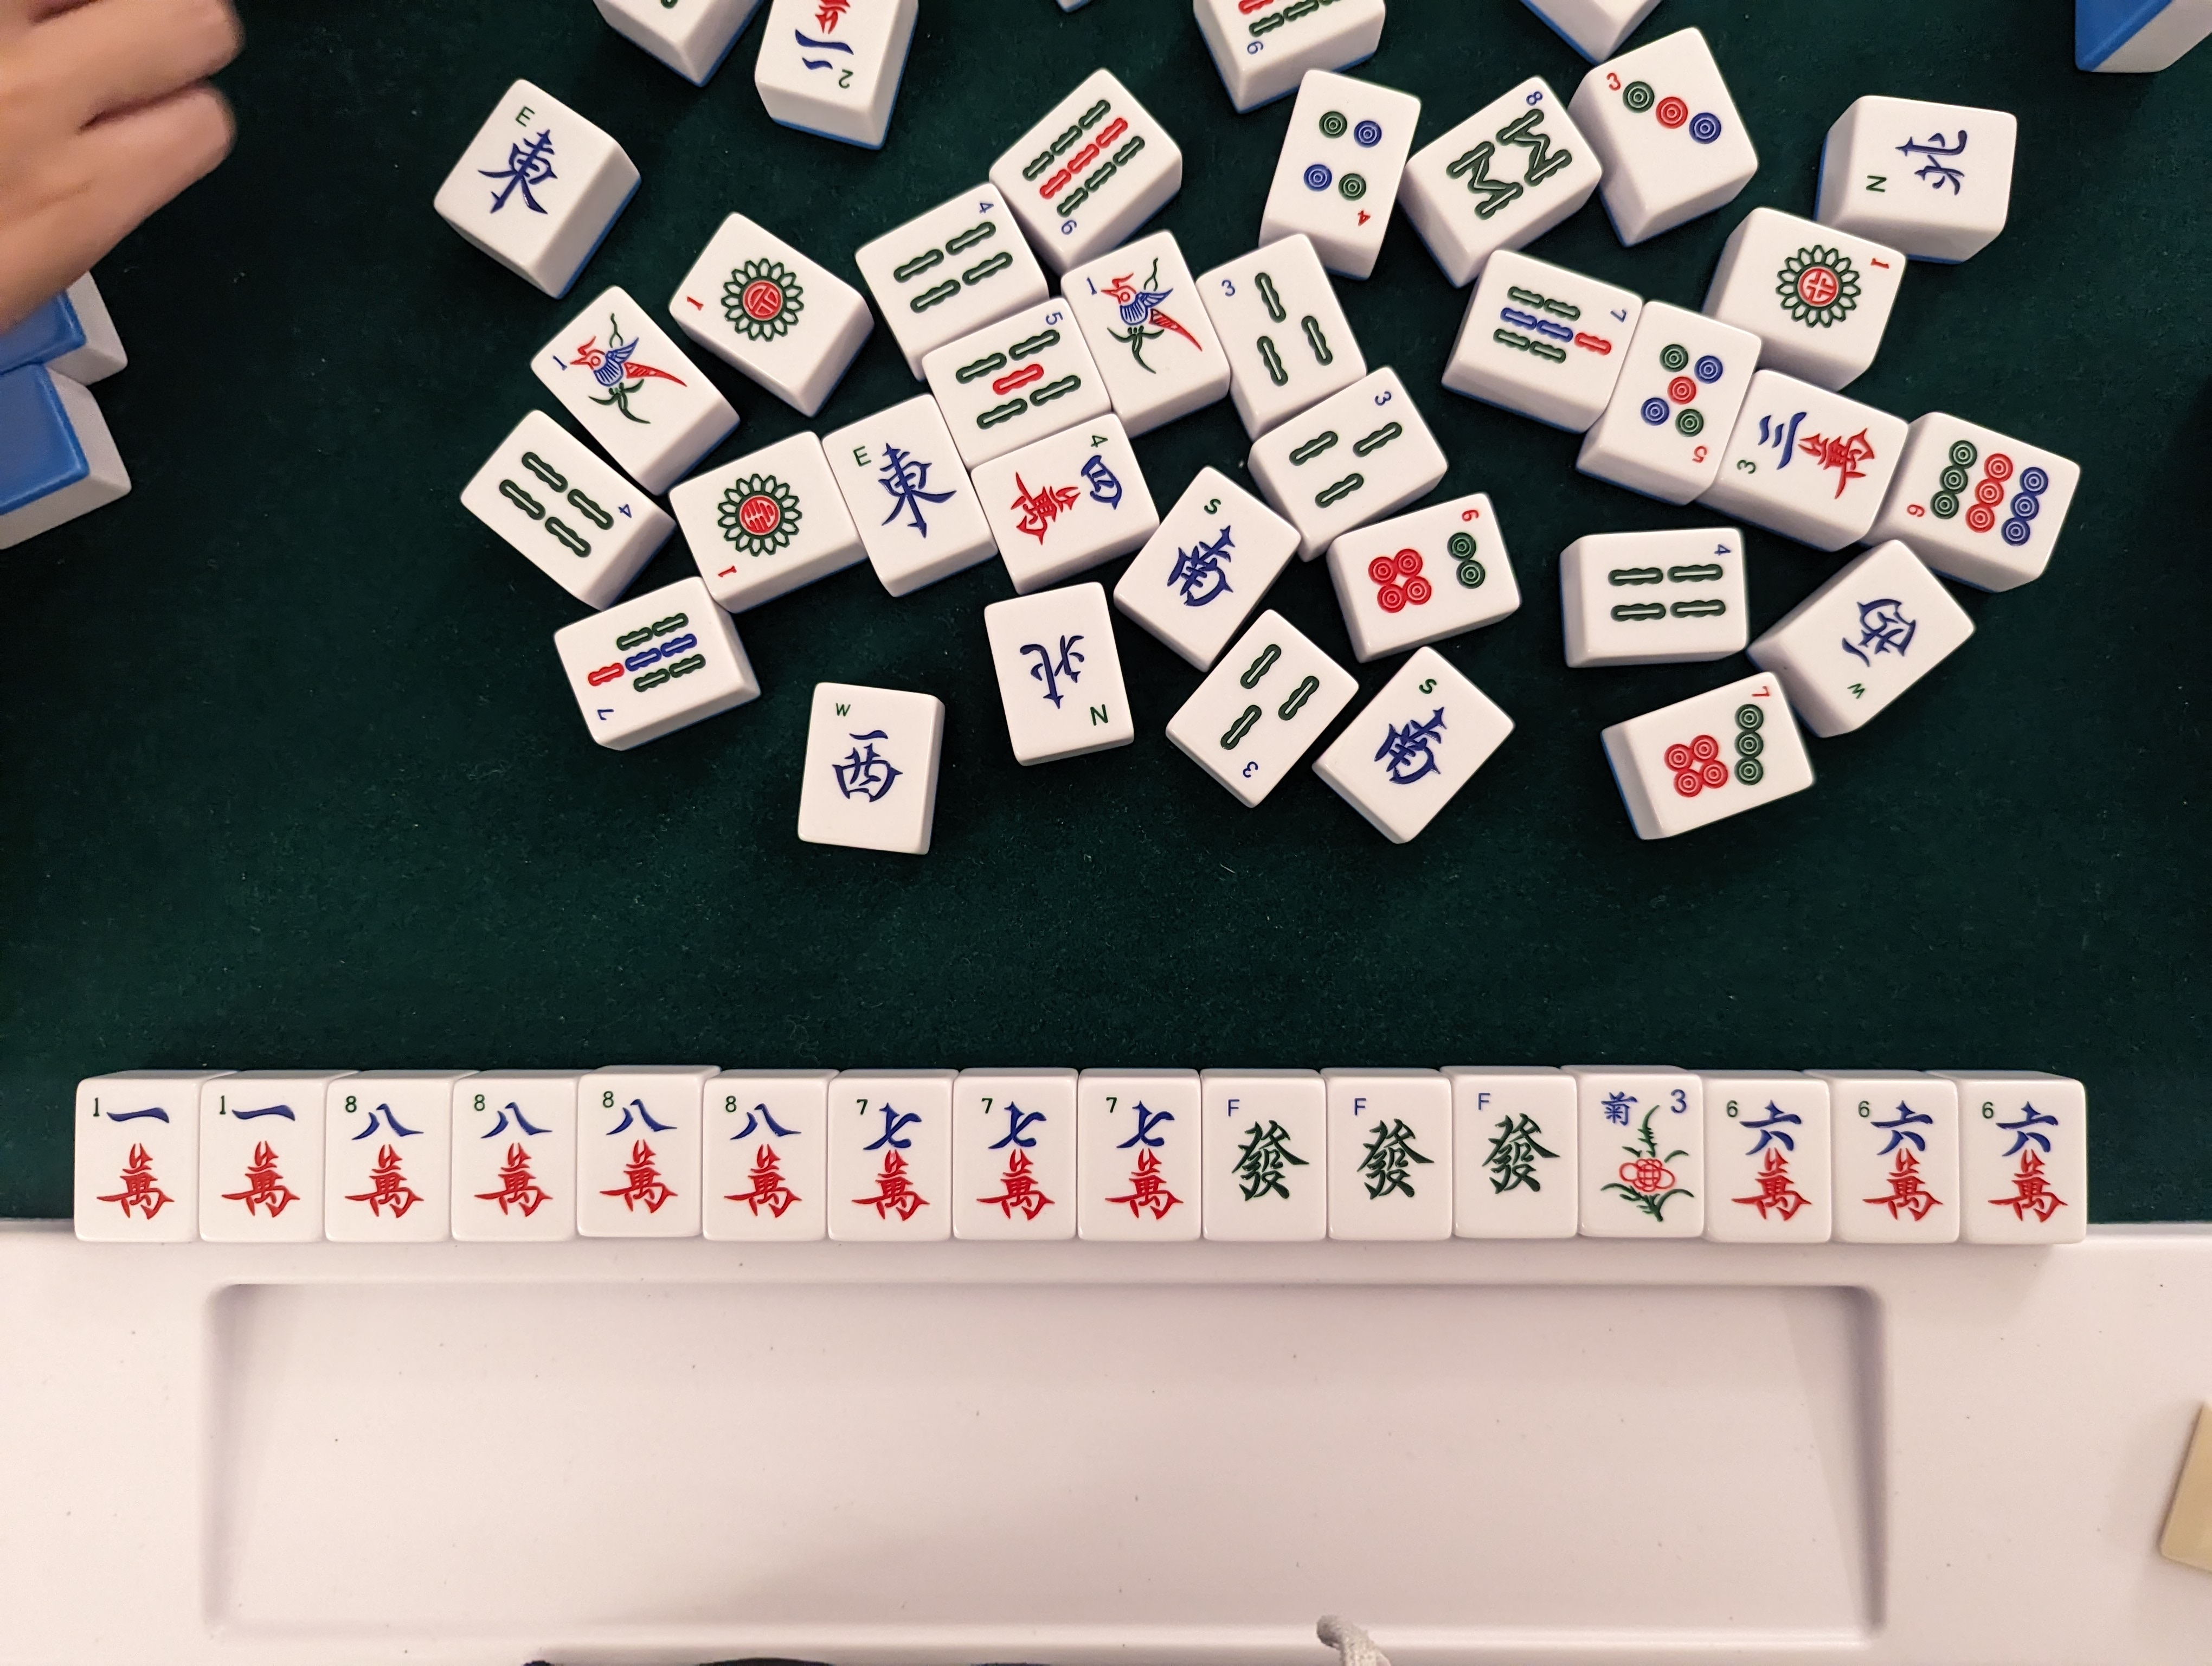character-eight: (706, 1087, 822, 1236), (458, 1085, 568, 1236), (584, 1081, 692, 1234), (336, 1085, 444, 1236)
character-one: (208, 1085, 315, 1234), (82, 1085, 187, 1234)
character-seven: (956, 1081, 1072, 1239), (1081, 1081, 1198, 1236), (832, 1085, 948, 1239)
character-six: (1962, 1089, 2079, 1242), (1840, 1087, 1953, 1241), (1712, 1089, 1827, 1236)
flower-blue_three: (1584, 1083, 1698, 1236)
honor-green_dragon: (1331, 1083, 1450, 1241), (1455, 1083, 1576, 1236), (1207, 1085, 1322, 1237)
